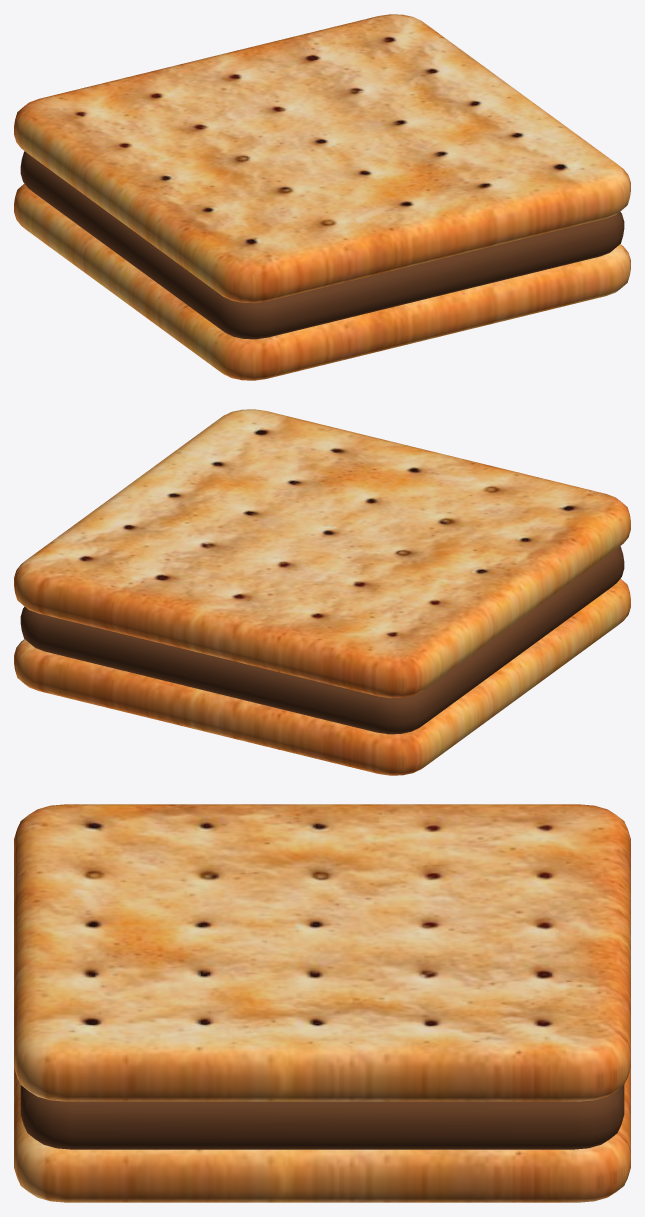
The model's file is candy_waf_26.fbx.
3 views of the same model, one above another, from view 1: azimuth 30°, elevation 25°; view 2: azimuth 150°, elevation 25°; view 3: azimuth 270°, elevation 25° (orthographic). The views are drawn at different scales.
Parts seen in each view (by area): view 1: c_w_26; view 2: c_w_26; view 3: c_w_26.
Boxes of the visible parts, x1,y1,x2,y2 form: c_w_26: (14, 14, 630, 380); c_w_26: (14, 409, 630, 775); c_w_26: (14, 804, 630, 1202).
Size of the model in its own units: 179 by 49.02 by 179.
